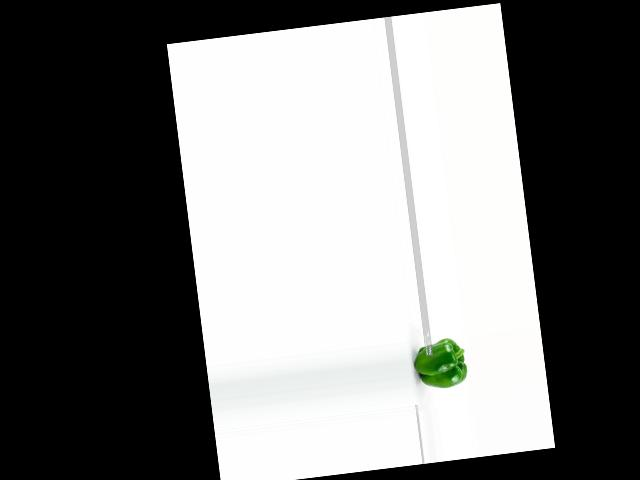bell_pepper: (409, 336, 471, 393)
